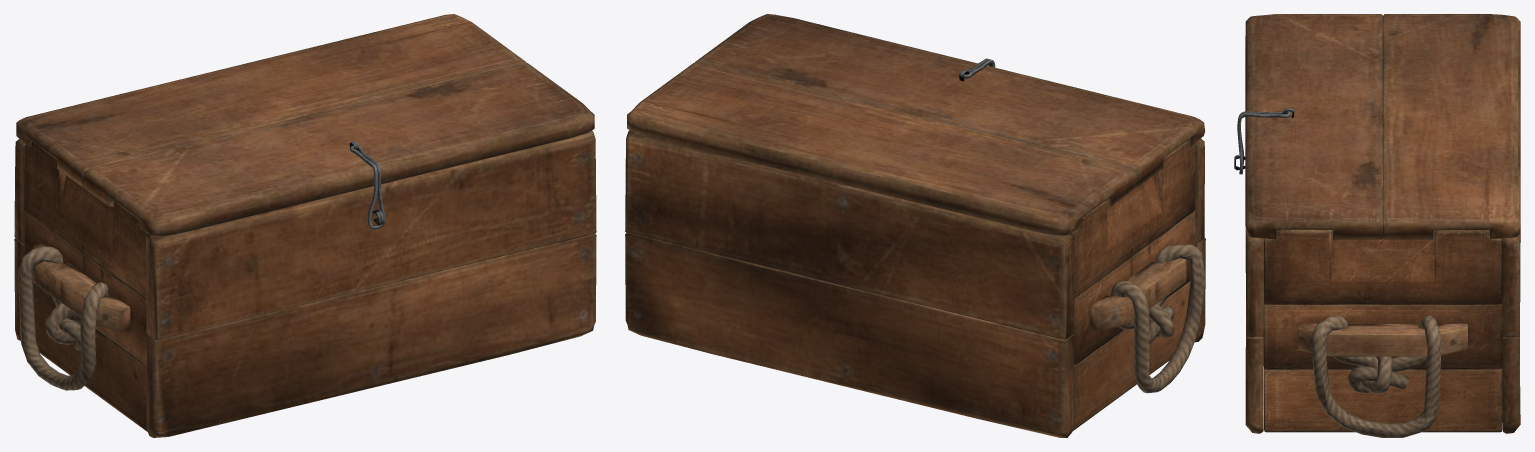
File: wooden_crate_01.glb
The picture shows the model from 3 angles, left to right: view 1: azimuth 30°, elevation 25°; view 2: azimuth 150°, elevation 25°; view 3: azimuth 270°, elevation 25°; orthographic projection. The views are drawn at different scales.
Visible parts, largest first — view 1: wooden_crate_01, wooden_crate_01_lid, wooden_crate_01_latch; view 2: wooden_crate_01, wooden_crate_01_lid; view 3: wooden_crate_01_lid, wooden_crate_01, wooden_crate_01_latch.
Part boxes in pixels (x1,y1,x2,y2): wooden_crate_01: [14, 131, 596, 437]; wooden_crate_01_lid: [16, 14, 594, 236]; wooden_crate_01_latch: [350, 145, 385, 229]; wooden_crate_01: [625, 130, 1205, 437]; wooden_crate_01_lid: [627, 14, 1204, 236]; wooden_crate_01_lid: [1245, 14, 1520, 239]; wooden_crate_01: [1234, 155, 1520, 437]; wooden_crate_01_latch: [1237, 111, 1290, 174].
Size of the model in its own units: 0.8245 by 0.3495 by 0.4072.
Materials: 1 (1 with a texture image).
